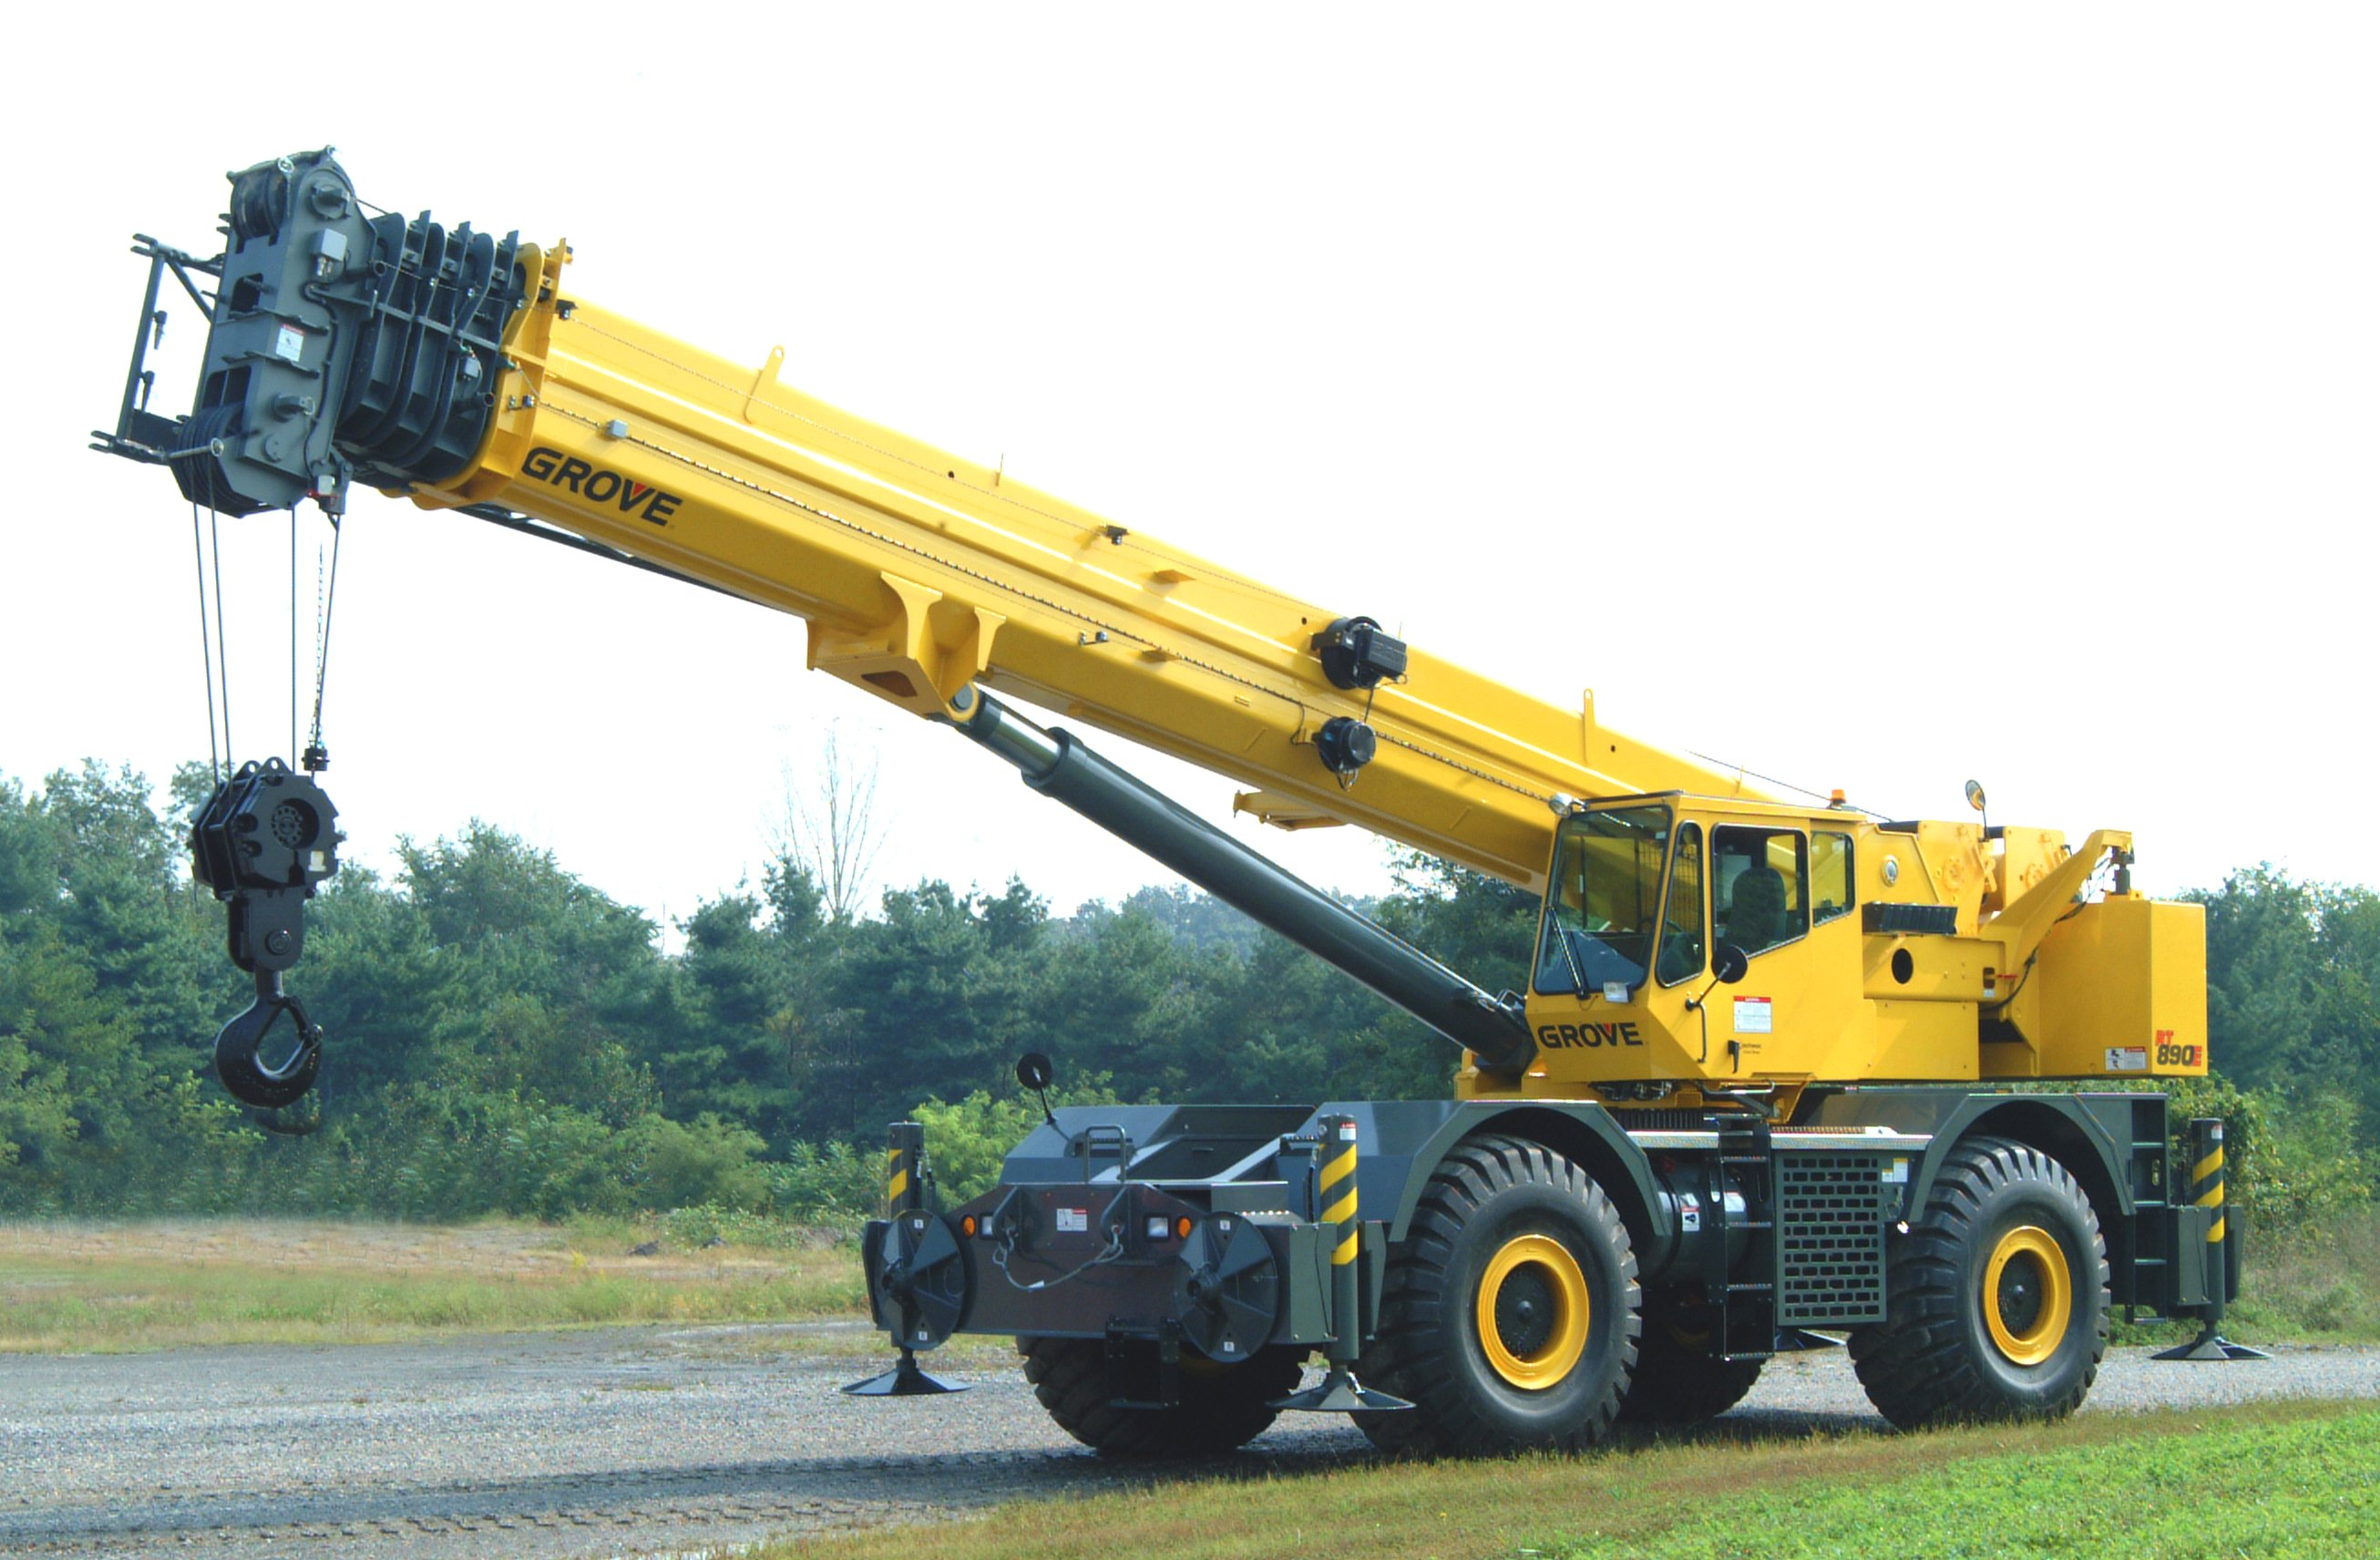crane: (118, 138, 2265, 1452)
